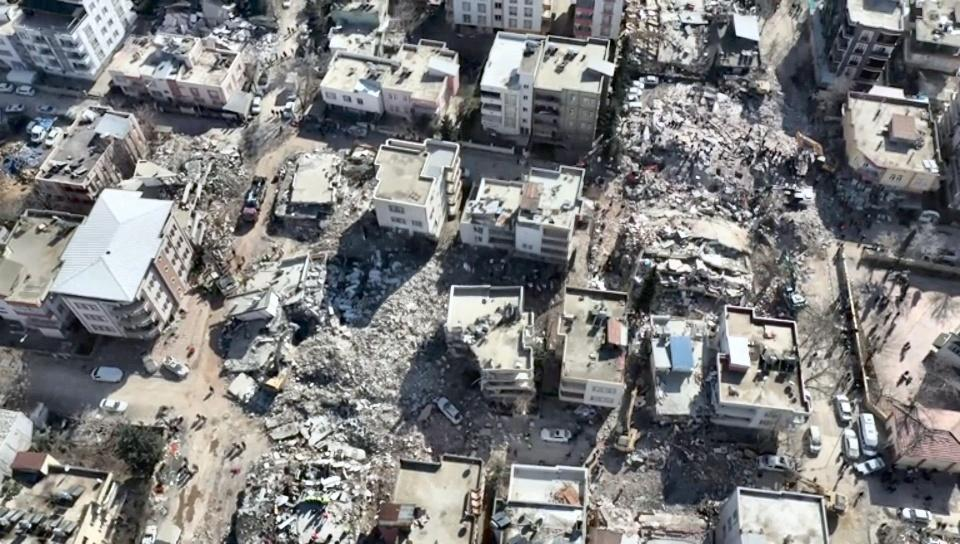kapali: (193, 145, 293, 392), (216, 390, 535, 464), (761, 47, 841, 282), (573, 419, 780, 492)
